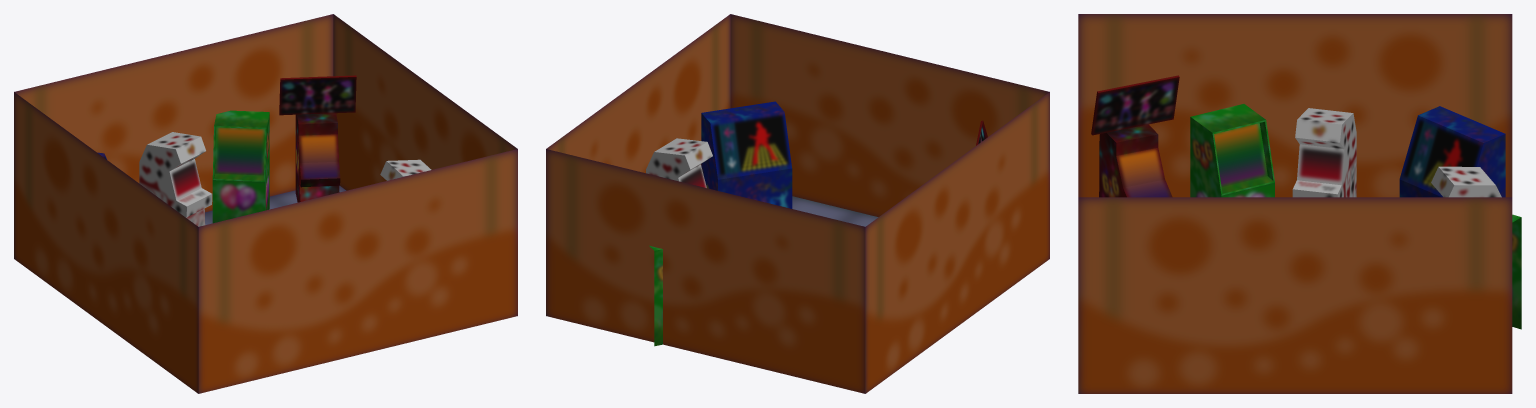
File: envi.FBX
The picture shows the model from 3 angles, left to right: view 1: azimuth 30°, elevation 25°; view 2: azimuth 150°, elevation 25°; view 3: azimuth 270°, elevation 25°; orthographic projection. The views are drawn at different scales.
Visible parts, largest first — view 1: envi; view 2: envi; view 3: envi.
Part boxes in pixels (x1=…): envi: x1=14, y1=14, x2=517, y2=393; envi: x1=546, y1=14, x2=1049, y2=393; envi: x1=1078, y1=14, x2=1521, y2=393.
Bounding box in the file's own units: 140 × 70 × 143.
